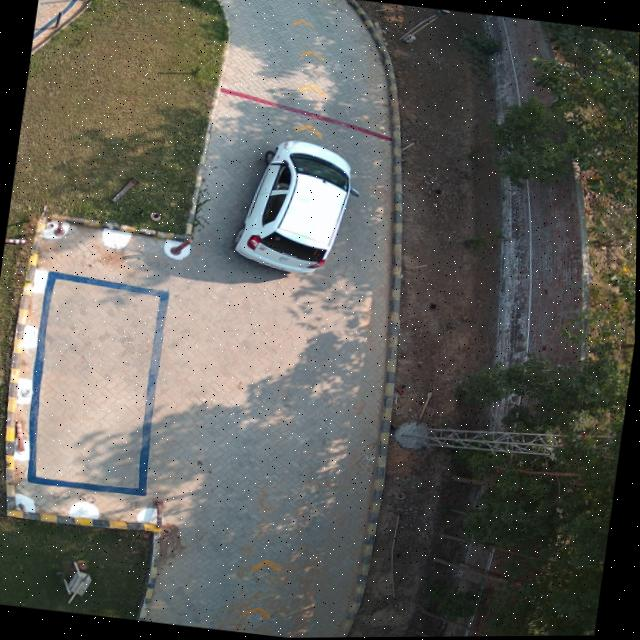car: (234, 140, 354, 273)
